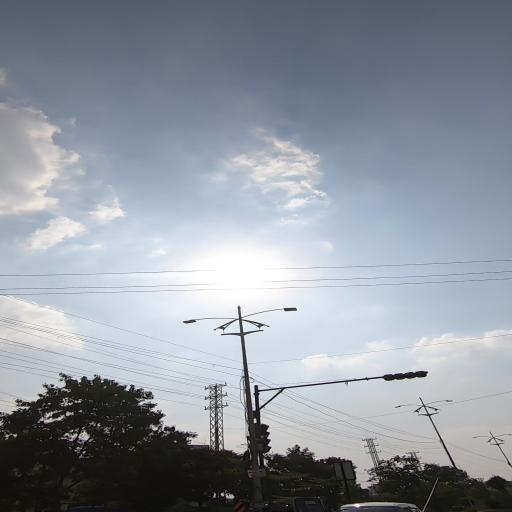Street_light: (246, 305, 300, 321), (178, 317, 243, 328), (390, 403, 422, 412), (423, 398, 456, 406), (472, 432, 491, 443), (495, 433, 512, 440)
